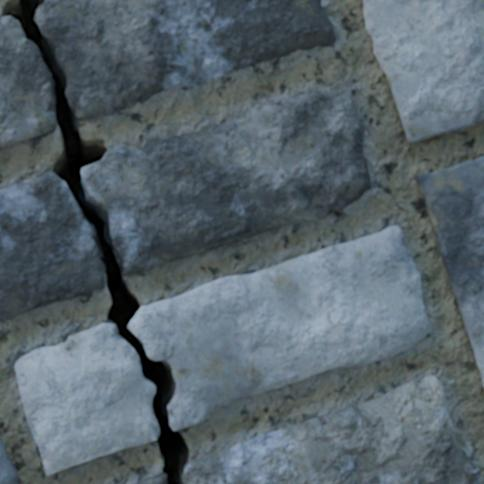brick: (363, 0, 483, 143), (416, 157, 483, 384), (0, 440, 17, 483)
broken_brick: (131, 224, 431, 430), (82, 87, 371, 275), (37, 0, 336, 121), (185, 375, 481, 483), (14, 322, 156, 475), (0, 172, 105, 321), (0, 16, 55, 148), (135, 472, 163, 483)
crack: (2, 0, 190, 483), (24, 300, 58, 312)
